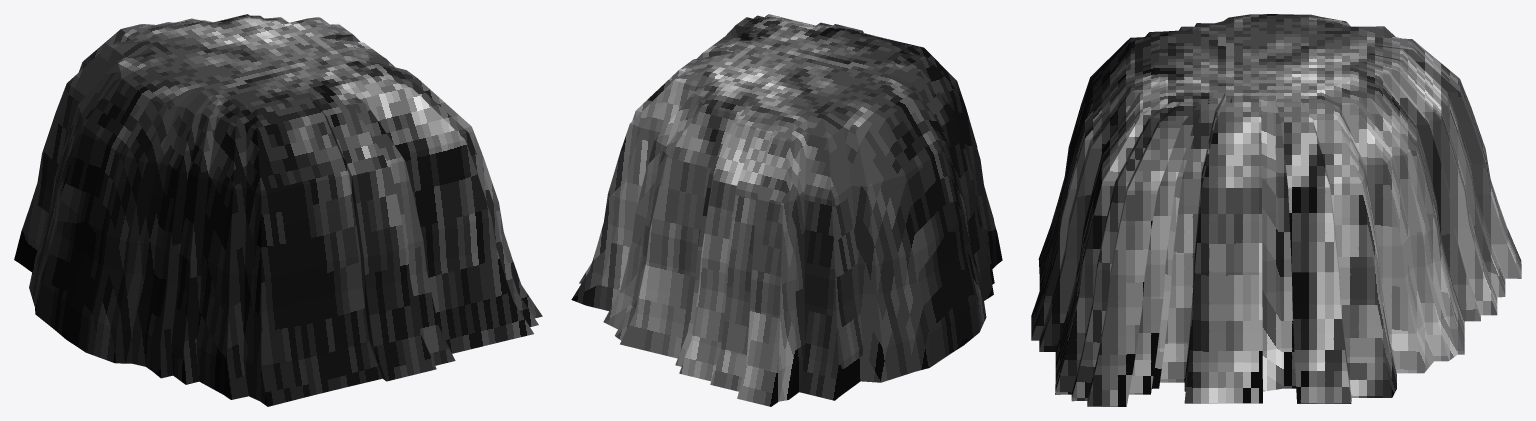
The model's file is boulder_343x02.gltf.
3 renders of one model, left to right at view 1: azimuth 30°, elevation 25°; view 2: azimuth 150°, elevation 25°; view 3: azimuth 270°, elevation 25°, orthographic. The views are drawn at different scales.
Visible parts, largest first — view 1: Boulder_343x2; view 2: Boulder_343x2; view 3: Boulder_343x2.
Part boxes in pixels (left/top/right/bottom): Boulder_343x2: left=14, top=14, right=542, bottom=406; Boulder_343x2: left=571, top=14, right=1002, bottom=406; Boulder_343x2: left=1031, top=14, right=1521, bottom=406.
Bounding box in the file's own units: 4.27 × 2.59 × 4.68.
1 material, 1 textured.
